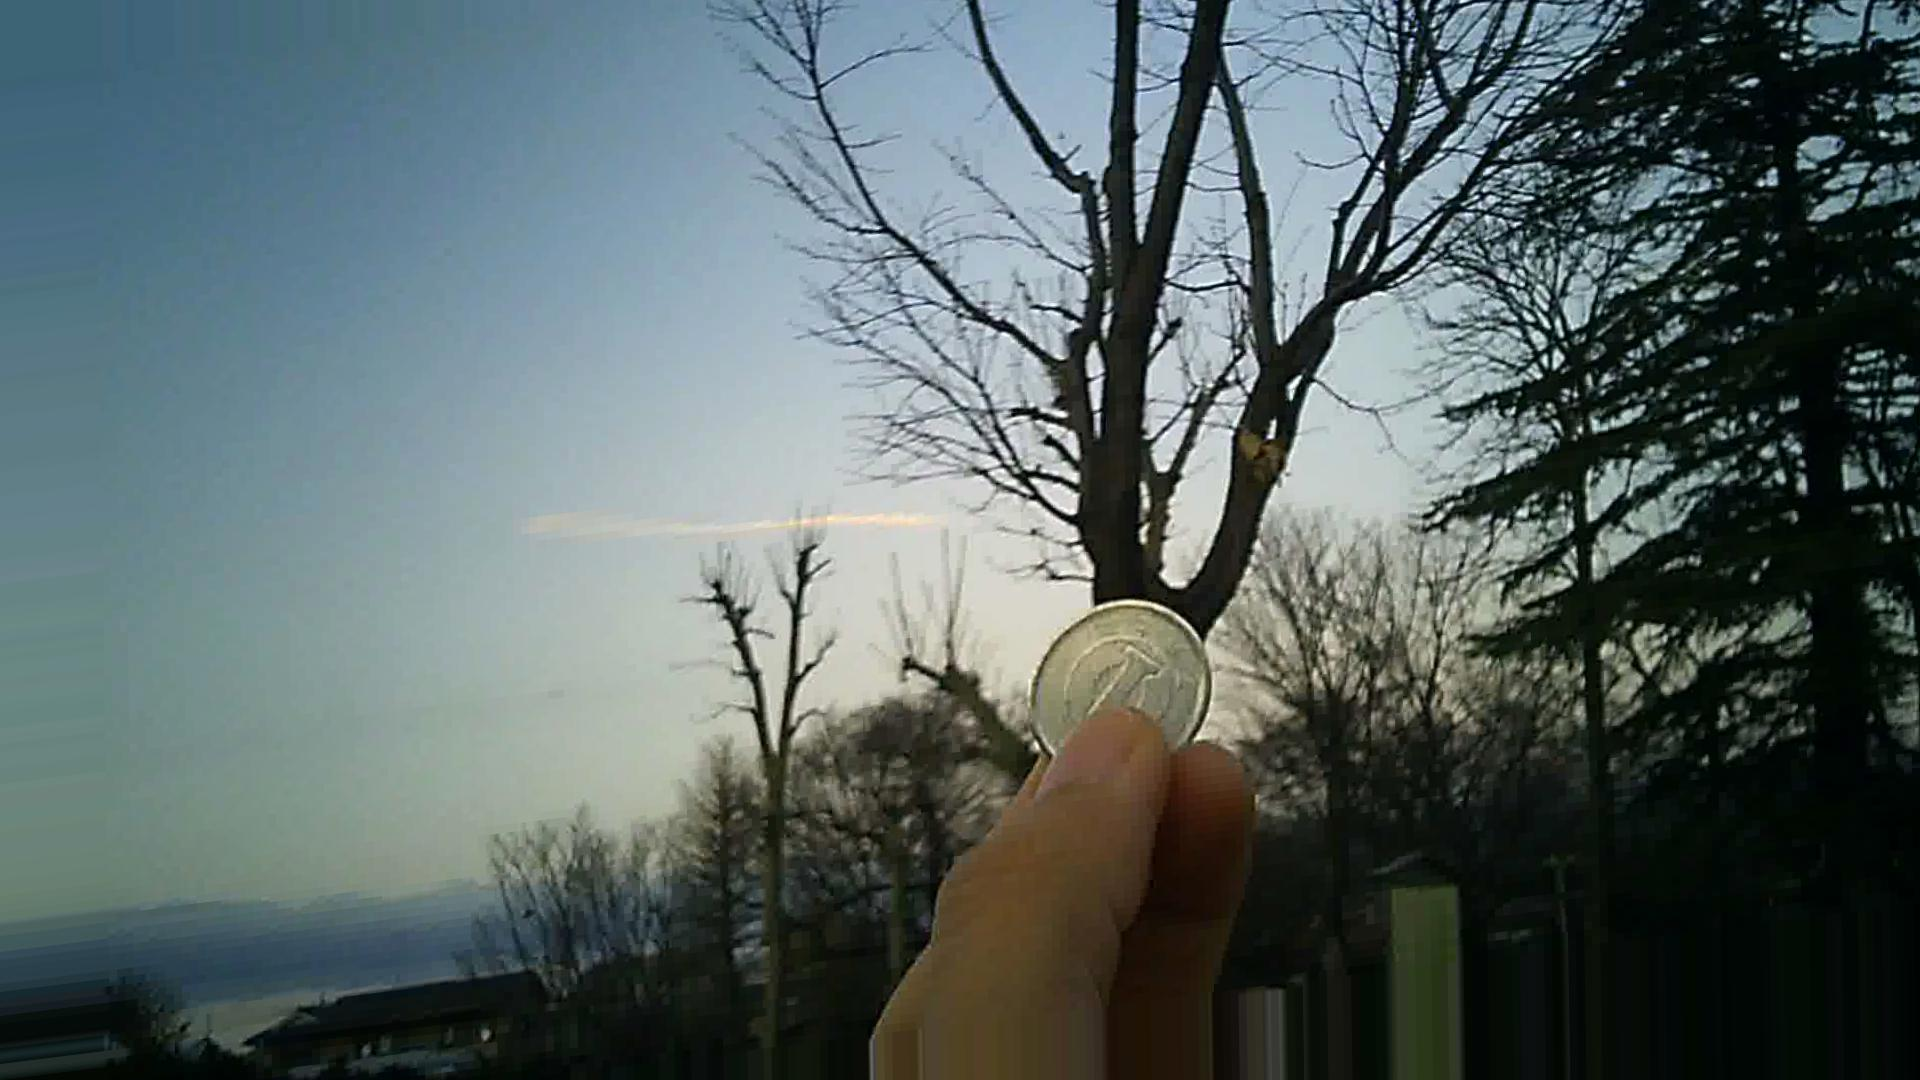1 Yen: (1006, 603, 1230, 783)
